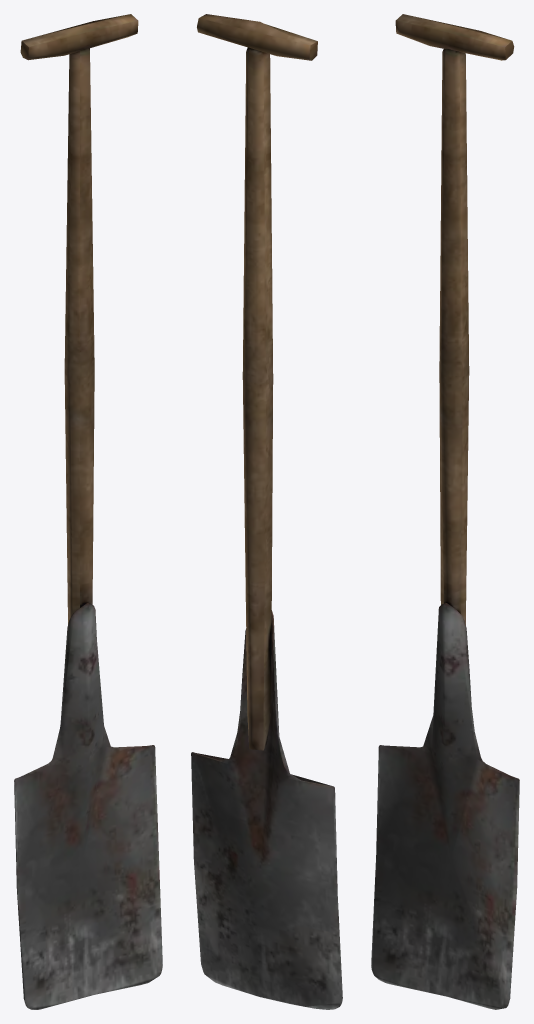
File: spade.glb
3 renders of one model, left to right at view 1: azimuth 30°, elevation 25°; view 2: azimuth 150°, elevation 25°; view 3: azimuth 330°, elevation 25°, orthographic. The views are drawn at different scales.
Parts seen in each view (by area): view 1: rusted_spade_01; view 2: rusted_spade_01; view 3: rusted_spade_01.
Part boxes in pixels (<box>): rusted_spade_01: <box>14,14,162,1009</box>; rusted_spade_01: <box>191,14,342,1009</box>; rusted_spade_01: <box>371,14,519,1009</box>.
Size of the model in its own units: 0.1682 by 1.1 by 0.0447.
Materials: 1 (1 with a texture image).
